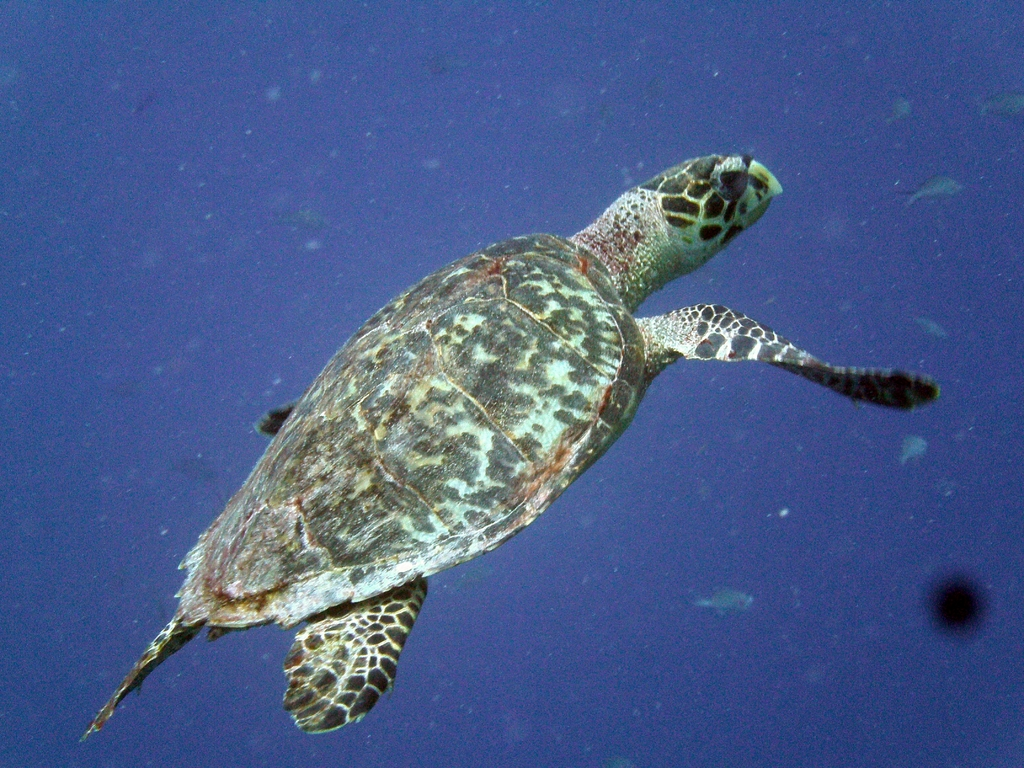Sea turtles: (69, 159, 931, 741)
